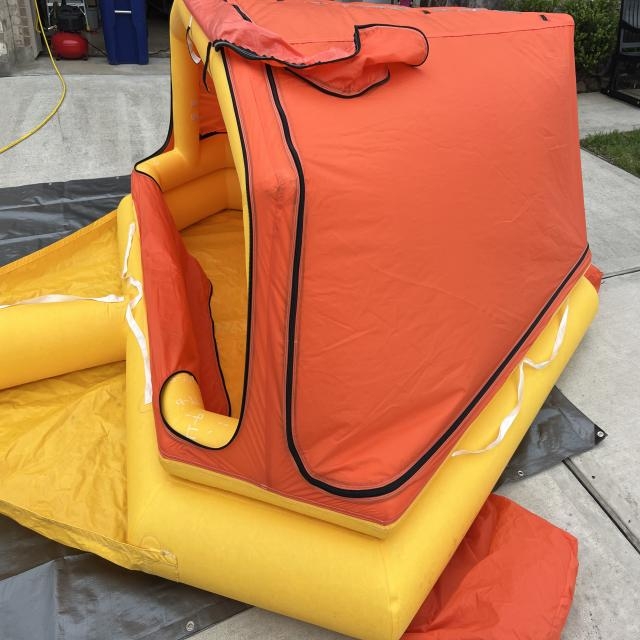Multi-person_life_raft: (0, 1, 604, 639)
